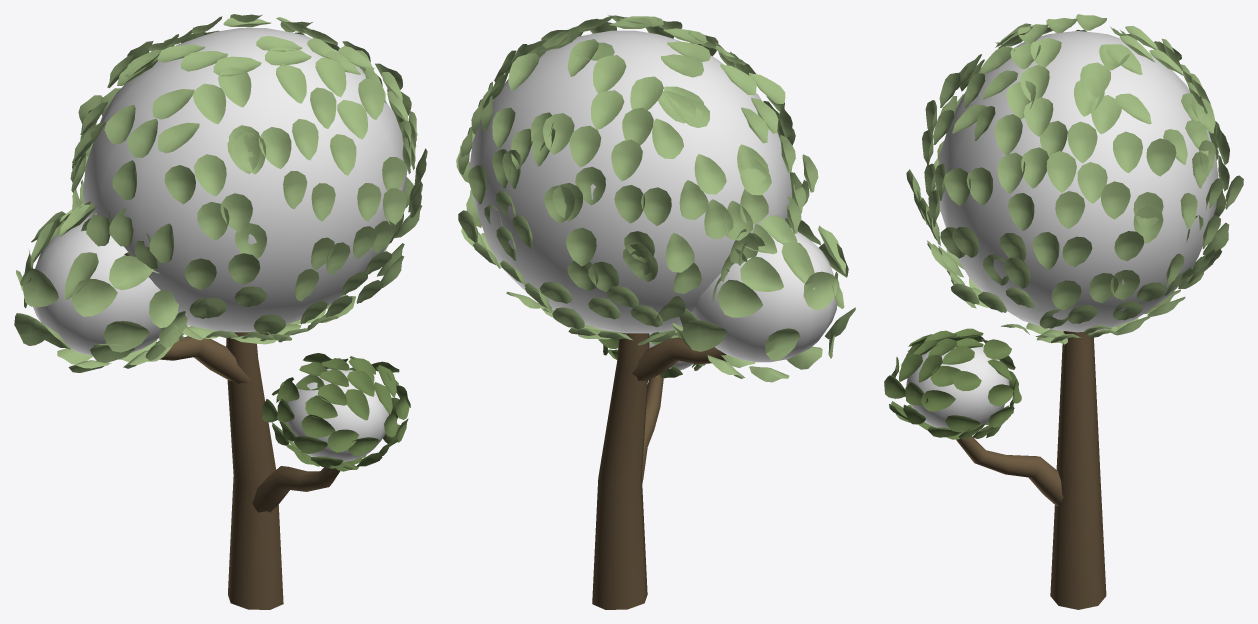
The model's file is arbre3.fbx.
3 renders of one model, left to right at view 1: azimuth 30°, elevation 25°; view 2: azimuth 150°, elevation 25°; view 3: azimuth 270°, elevation 25°, orthographic. The views are drawn at different scales.
Parts seen in each view (by area): view 1: MASH8_arbre_02_ReproMesh.002, Sphere.001, MASH6_arbre_02_ReproMesh.002, PROP_Arbre_04:sweep2.001, MASH5_arbre_02_ReproMesh.002, Sphere.003, Sphere.004, PROP_Arbre_04:sweep3.001, PROP_Arbre_04:sweep5.001; view 2: MASH8_arbre_02_ReproMesh.002, Sphere.001, PROP_Arbre_04:sweep2.001, MASH6_arbre_02_ReproMesh.002, Sphere.003, PROP_Arbre_04:sweep5.001, PROP_Arbre_04:sweep3.001, MASH5_arbre_02_ReproMesh.002; view 3: MASH8_arbre_02_ReproMesh.002, Sphere.001, PROP_Arbre_04:sweep2.001, MASH5_arbre_02_ReproMesh.002, Sphere.004, PROP_Arbre_04:sweep3.001.
Part boxes in pixels (x1,y1,x2,y2): MASH8_arbre_02_ReproMesh.002: [70, 14, 427, 344]; Sphere.001: [83, 28, 407, 332]; MASH6_arbre_02_ReproMesh.002: [14, 201, 187, 372]; PROP_Arbre_04:sweep2.001: [226, 331, 283, 609]; MASH5_arbre_02_ReproMesh.002: [262, 353, 410, 471]; Sphere.003: [33, 218, 161, 355]; Sphere.004: [285, 368, 388, 462]; PROP_Arbre_04:sweep3.001: [252, 466, 340, 512]; PROP_Arbre_04:sweep5.001: [156, 336, 250, 383]; MASH8_arbre_02_ReproMesh.002: [456, 14, 818, 345]; Sphere.001: [469, 30, 791, 333]; PROP_Arbre_04:sweep2.001: [592, 332, 649, 609]; MASH6_arbre_02_ReproMesh.002: [672, 215, 855, 382]; Sphere.003: [692, 228, 836, 362]; PROP_Arbre_04:sweep5.001: [632, 337, 726, 380]; PROP_Arbre_04:sweep3.001: [642, 374, 663, 482]; MASH5_arbre_02_ReproMesh.002: [598, 332, 705, 378]; MASH8_arbre_02_ReproMesh.002: [906, 14, 1243, 344]; Sphere.001: [938, 31, 1218, 332]; PROP_Arbre_04:sweep2.001: [1050, 331, 1106, 609]; MASH5_arbre_02_ReproMesh.002: [884, 328, 1021, 439]; Sphere.004: [906, 346, 1009, 428]; PROP_Arbre_04:sweep3.001: [956, 436, 1063, 507].
Bounding box in the file's own units: 479 × 686 × 402.
